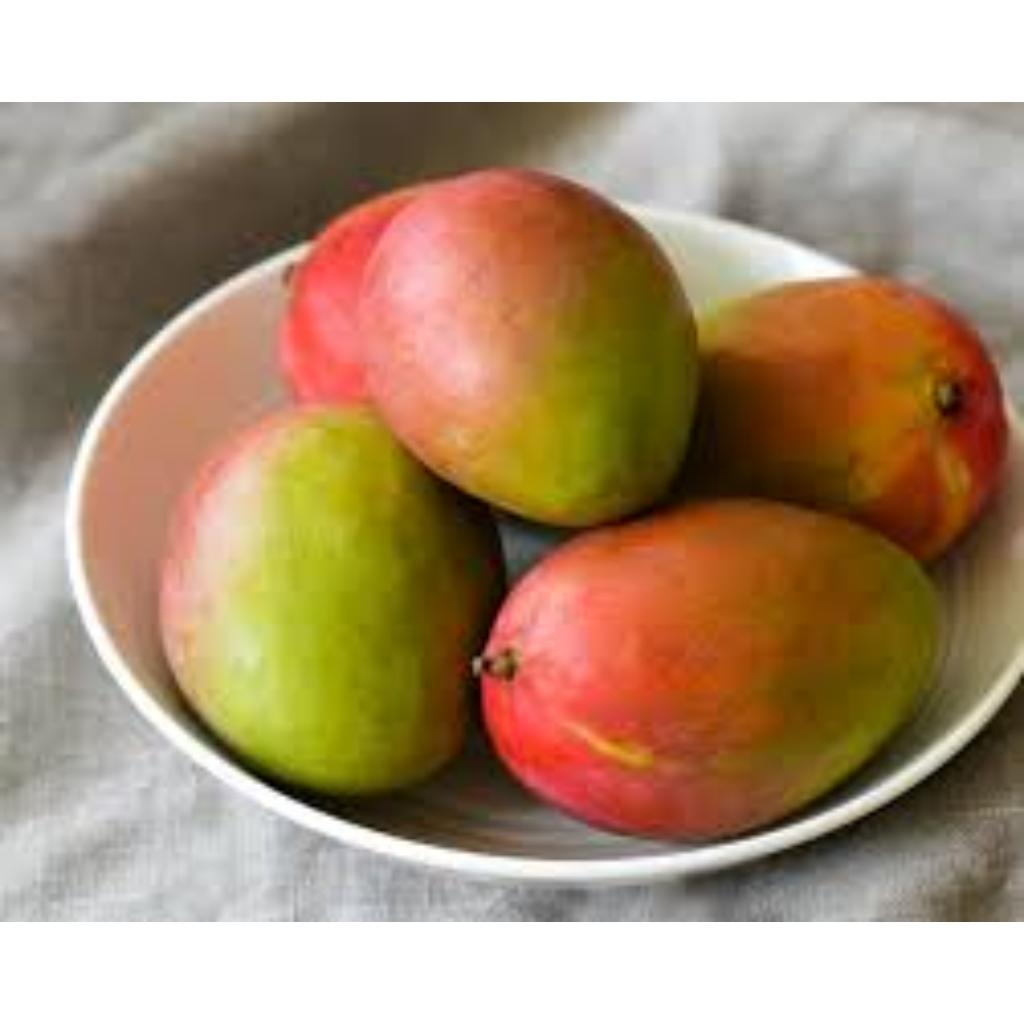mango: (472, 503, 936, 855), (150, 404, 512, 805), (359, 171, 706, 530), (681, 272, 1016, 552)
